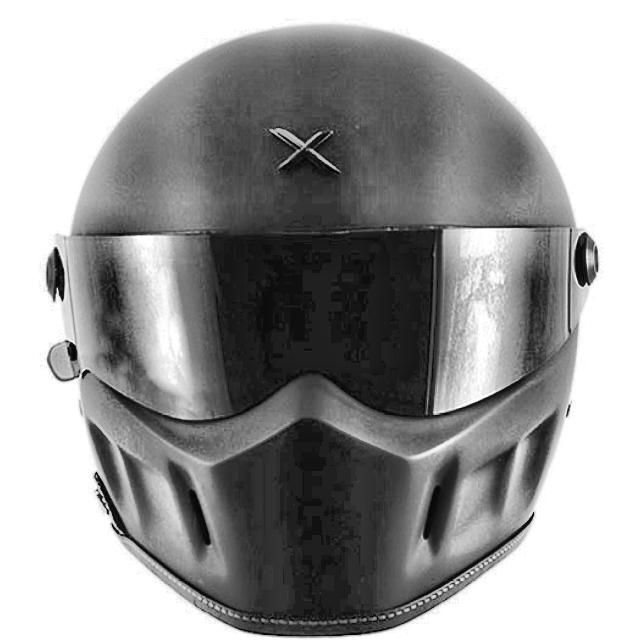Helmet: (39, 21, 606, 640)
